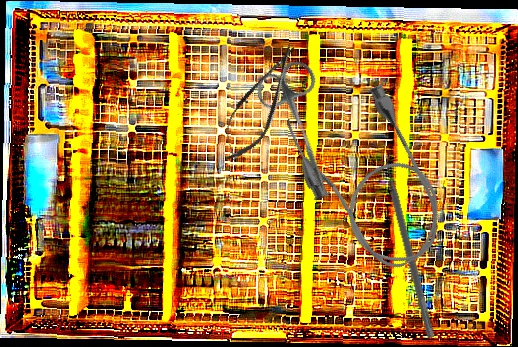Cannula: (275, 71, 464, 289)
Iris Scissors: (250, 56, 356, 205)
Micro Scissor: (211, 35, 310, 169)
Spatula Surgical: (378, 151, 443, 339)
